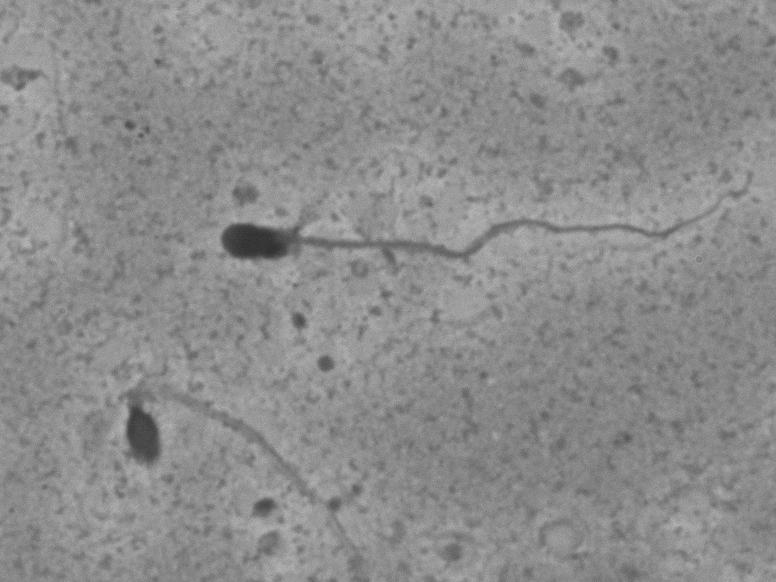Abnormal: (195, 133, 750, 300), (94, 353, 381, 553)
